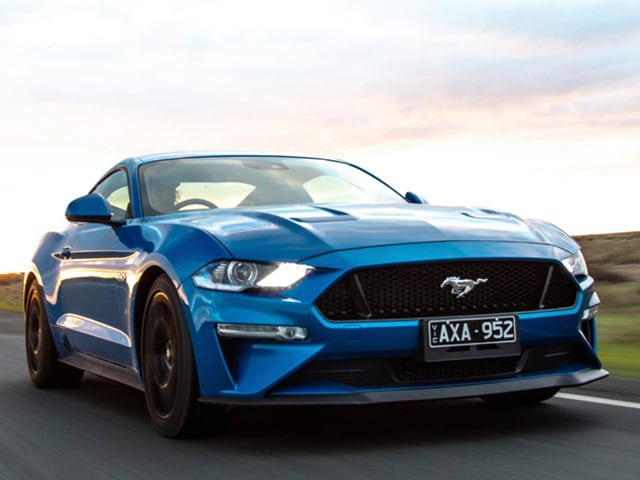car: (22, 141, 609, 438)
